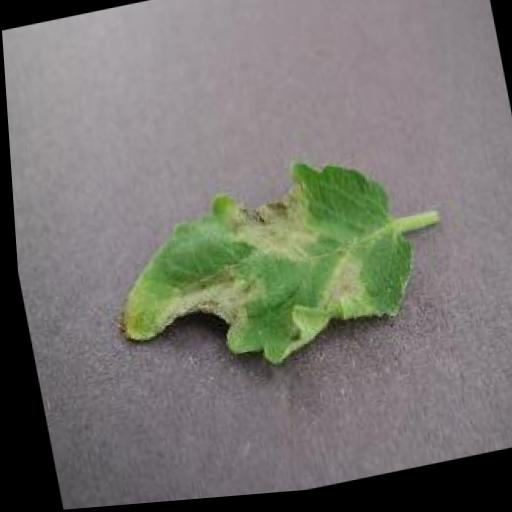Late Blight: (86, 148, 425, 399)
